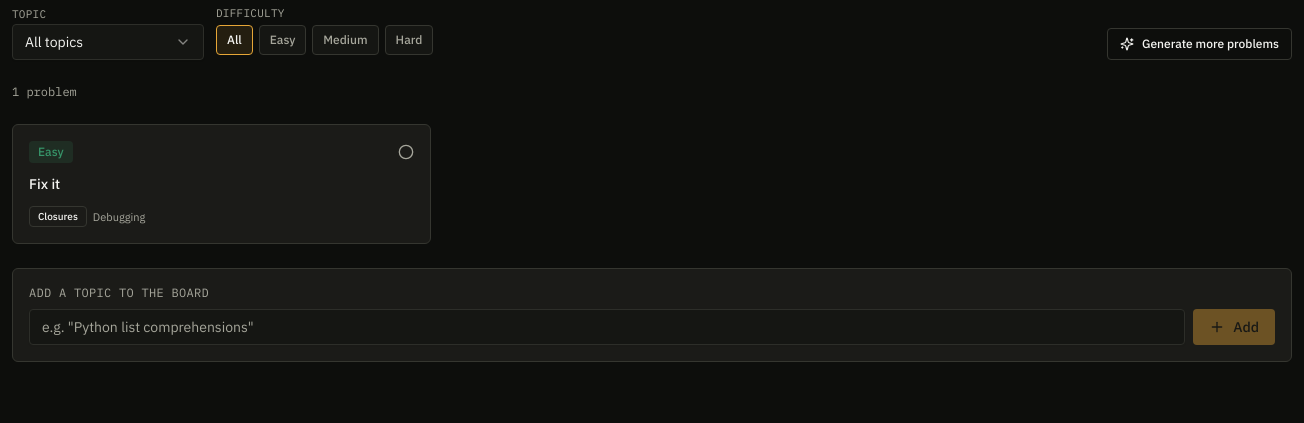
it: PracticeBoard › locked topics › refuses 'add a topic' when the title names a topic of the path that hasn't been reached, and generates nothing
Type "Loops" into the field. click: {"x": 607, "y": 327}
box: [29,309,1185,345]
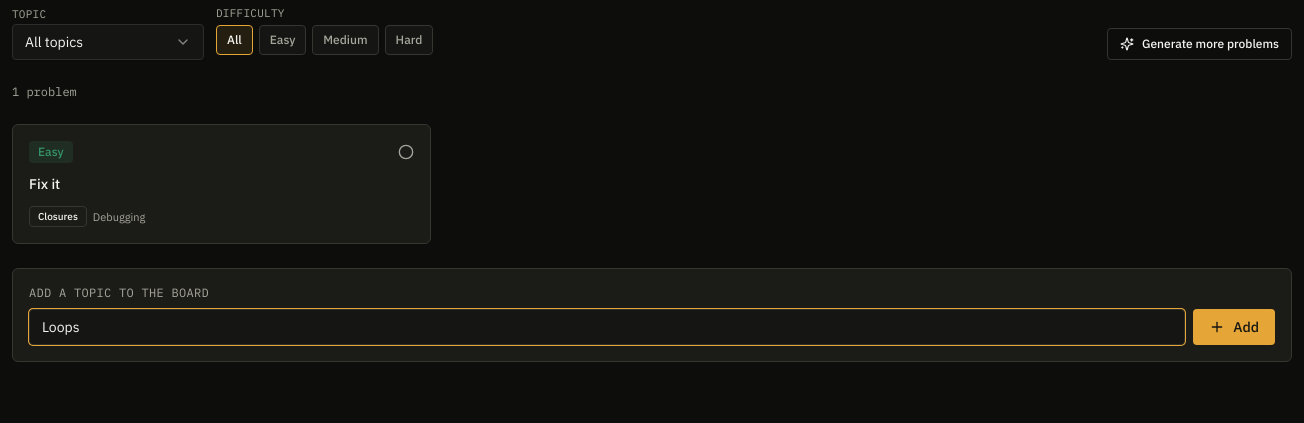
Click the button "Add". click: {"x": 1234, "y": 327}
box: [1193,309,1275,345]
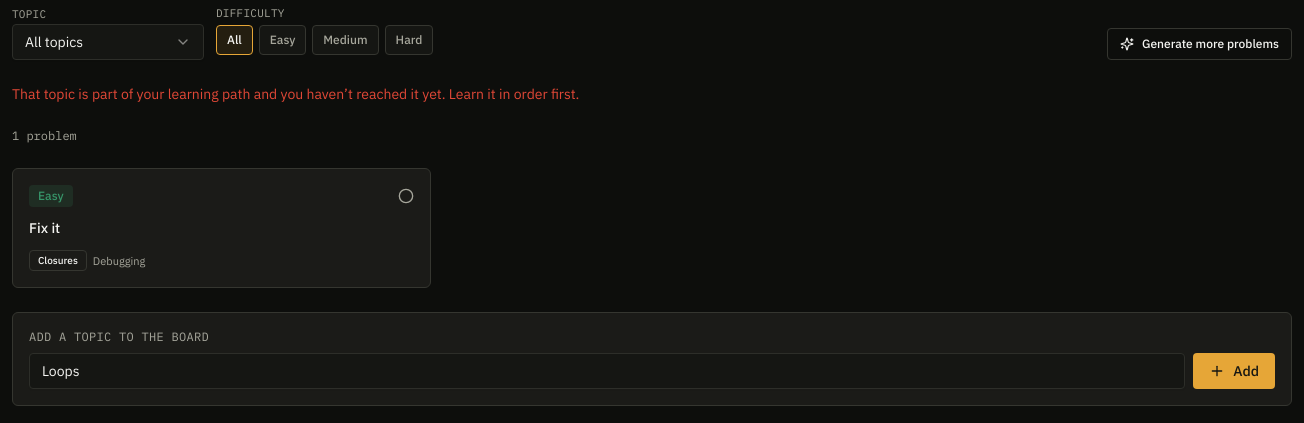
Result: the message shows "haven.t reached it yet" at [12,85,579,103]
